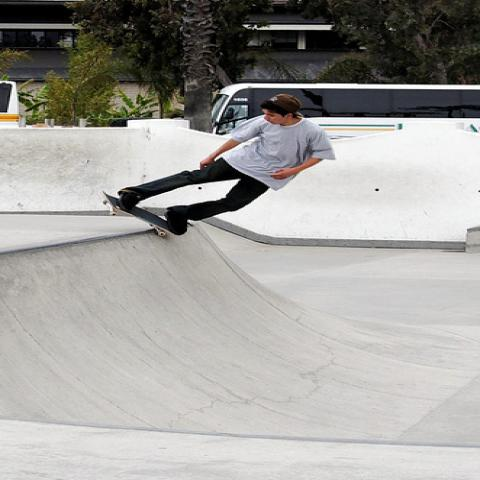bus: (209, 76, 478, 139), (0, 80, 21, 130)
